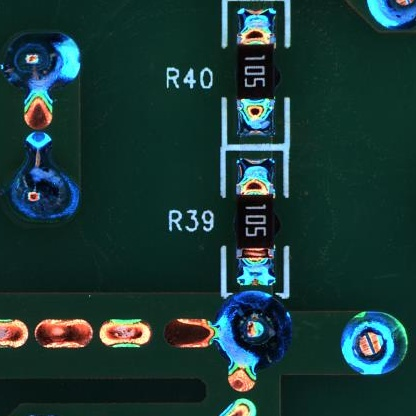spot: (214, 289, 293, 367), (340, 308, 408, 378), (8, 166, 83, 222), (1, 32, 78, 84)
